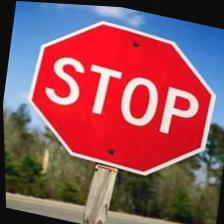Stop: (19, 5, 224, 187)
